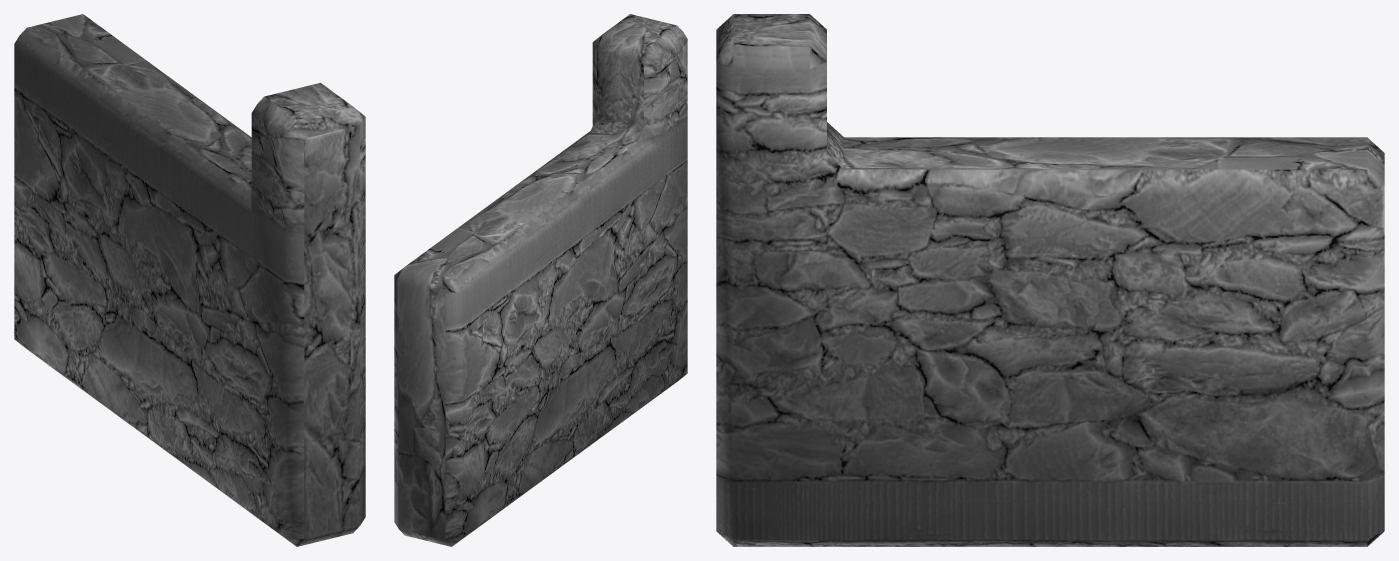
The model's file is StoneWallWT.fbx.
3 views of the same model, side by side, from view 1: azimuth 30°, elevation 25°; view 2: azimuth 150°, elevation 25°; view 3: azimuth 270°, elevation 25° (orthographic). The views are drawn at different scales.
Parts seen in each view (by area): view 1: Cube; view 2: Cube; view 3: Cube.
Part boxes in pixels (x1=…): Cube: x1=14, y1=14, x2=365, y2=546; Cube: x1=394, y1=14, x2=687, y2=546; Cube: x1=716, y1=14, x2=1384, y2=546.
Bounding box in the file's own units: 200 × 1000 × 1209.
Materials: 1 (1 with a texture image).
